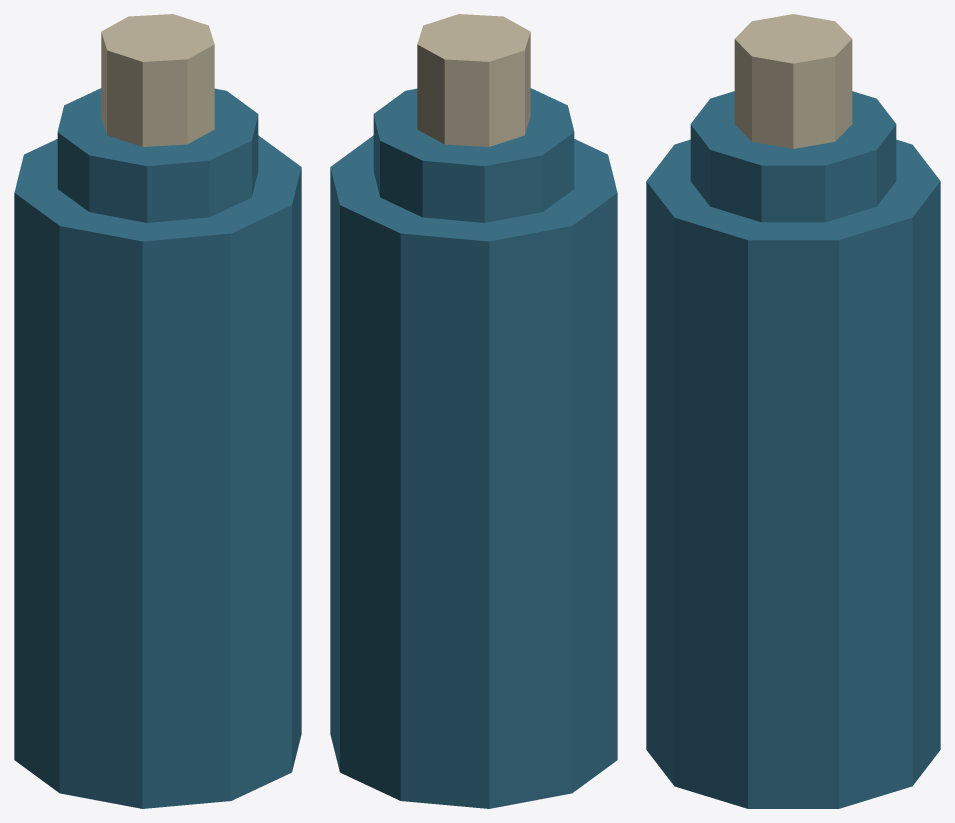
The model's file is set_tin_can_group.glb.
The picture shows the model from 3 angles, left to right: view 1: azimuth 30°, elevation 25°; view 2: azimuth 150°, elevation 25°; view 3: azimuth 270°, elevation 25°; orthographic projection.
Parts seen in each view (by area): view 1: set_tin_can_group; view 2: set_tin_can_group; view 3: set_tin_can_group.
Boxes of the visible parts, x1=… form: set_tin_can_group: x1=14, y1=14, x2=301, y2=808; set_tin_can_group: x1=330, y1=14, x2=617, y2=808; set_tin_can_group: x1=646, y1=14, x2=940, y2=808.
Bounding box in the file's own units: 0.0571 × 0.16 × 0.06.
